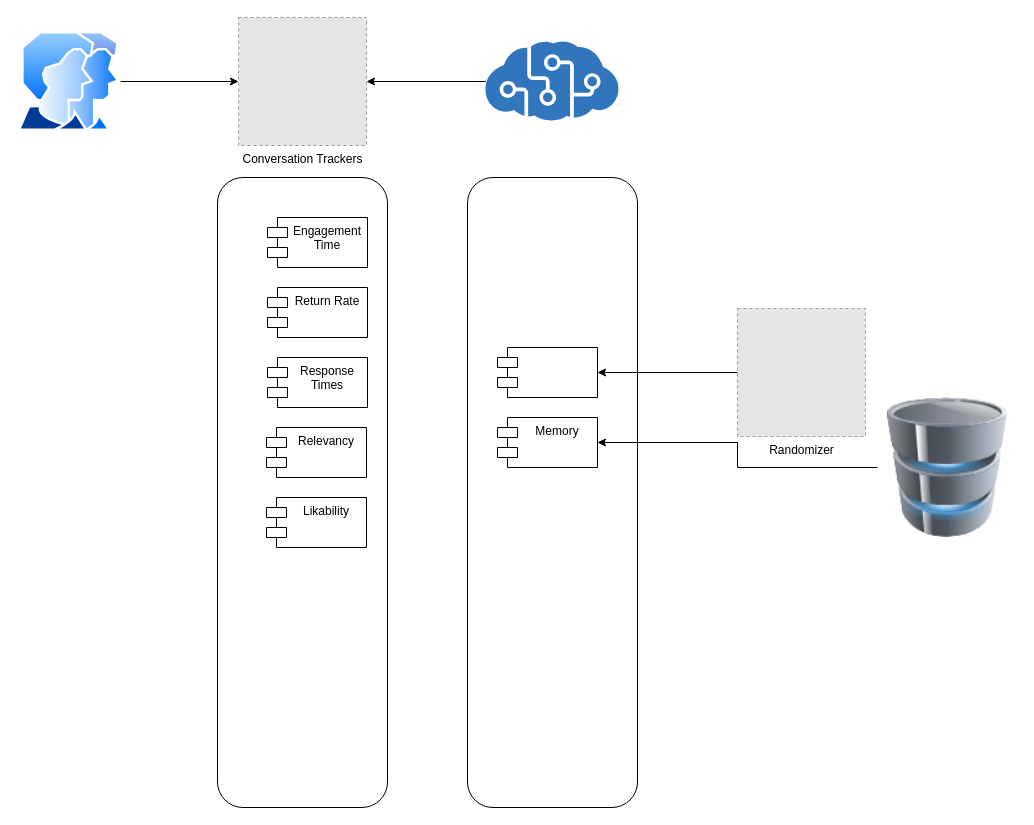
Some shapes in this 1034 by 825 pixel diagram are drawn without their labels. Grey dashed boxes stand in for pictures. The shapes that lost their labels are listed below. From the top down, each one's centre as x and y in pixels, then its label:
At point 552,81: "Zenith".
At point 547,372: "Personality".
At point 947,467: "Database".
